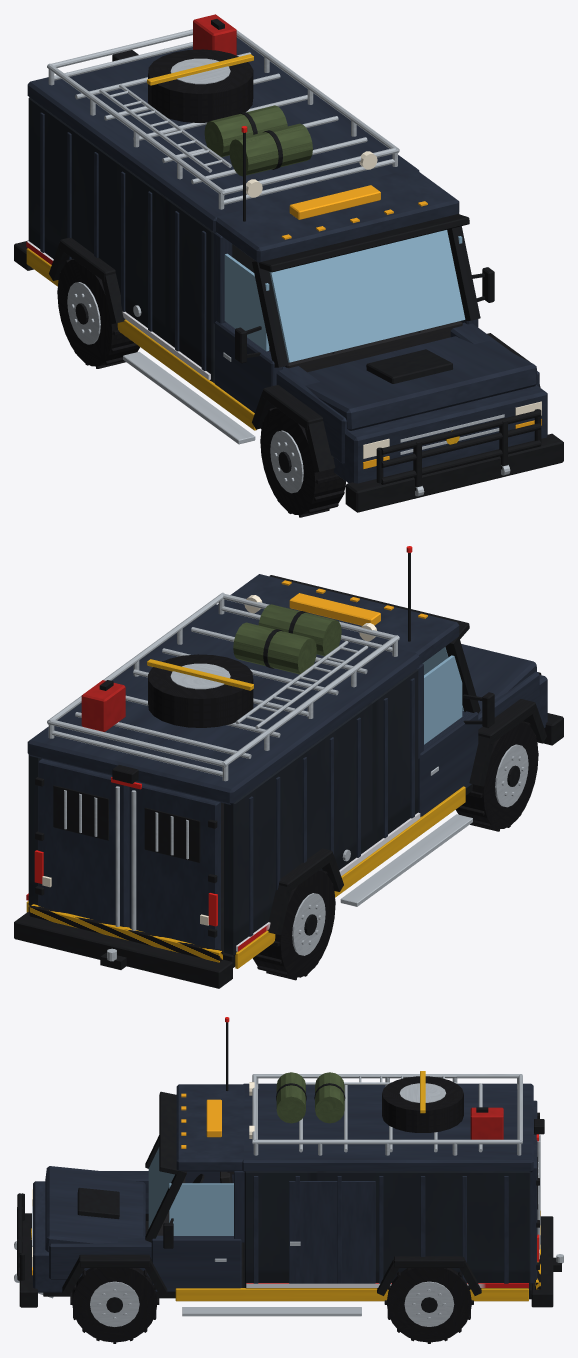
The model's file is BlenderDeliveryVan_Concept.fbx.
The picture shows the model from 3 angles, top to bottom: view 1: azimuth 30°, elevation 25°; view 2: azimuth 150°, elevation 25°; view 3: azimuth 270°, elevation 25°; orthographic projection. The views are drawn at different scales.
Visible parts, largest first — view 1: VanConcept_Body, VanConcept_RoofGear, VanConcept_Glass, VanConcept_Wheels, VanConcept_Interior, VanConcept_LightsAmber, VanConcept_LightsWhite; view 2: VanConcept_Body, VanConcept_RoofGear, VanConcept_Wheels, VanConcept_Glass, VanConcept_LightsAmber, VanConcept_LightsRed, VanConcept_LightsWhite; view 3: VanConcept_Body, VanConcept_RoofGear, VanConcept_Wheels, VanConcept_Glass, VanConcept_LightsAmber.
Part boxes in pixels (bbox=[...]): VanConcept_Body: bbox=[14, 37, 563, 512]; VanConcept_RoofGear: bbox=[47, 14, 399, 221]; VanConcept_Glass: bbox=[224, 230, 465, 362]; VanConcept_Wheels: bbox=[57, 259, 345, 517]; VanConcept_Interior: bbox=[232, 244, 462, 372]; VanConcept_LightsAmber: bbox=[281, 185, 541, 468]; VanConcept_LightsWhite: bbox=[246, 151, 541, 458]; VanConcept_Body: bbox=[14, 574, 563, 988]; VanConcept_RoofGear: bbox=[47, 553, 410, 781]; VanConcept_Wheels: bbox=[253, 721, 538, 980]; VanConcept_Glass: bbox=[422, 647, 463, 744]; VanConcept_LightsAmber: bbox=[281, 580, 427, 625]; VanConcept_LightsRed: bbox=[34, 546, 412, 926]; VanConcept_LightsWhite: bbox=[42, 595, 376, 925]; VanConcept_Body: bbox=[14, 1083, 563, 1316]; VanConcept_RoofGear: bbox=[226, 1022, 522, 1155]; VanConcept_Wheels: bbox=[70, 1214, 473, 1343]; VanConcept_Glass: bbox=[148, 1147, 233, 1235]; VanConcept_LightsAmber: bbox=[32, 1093, 221, 1275].
Size of the model in its own units: 14.18 by 17.4 by 34.27.
1 material, 1 textured.
